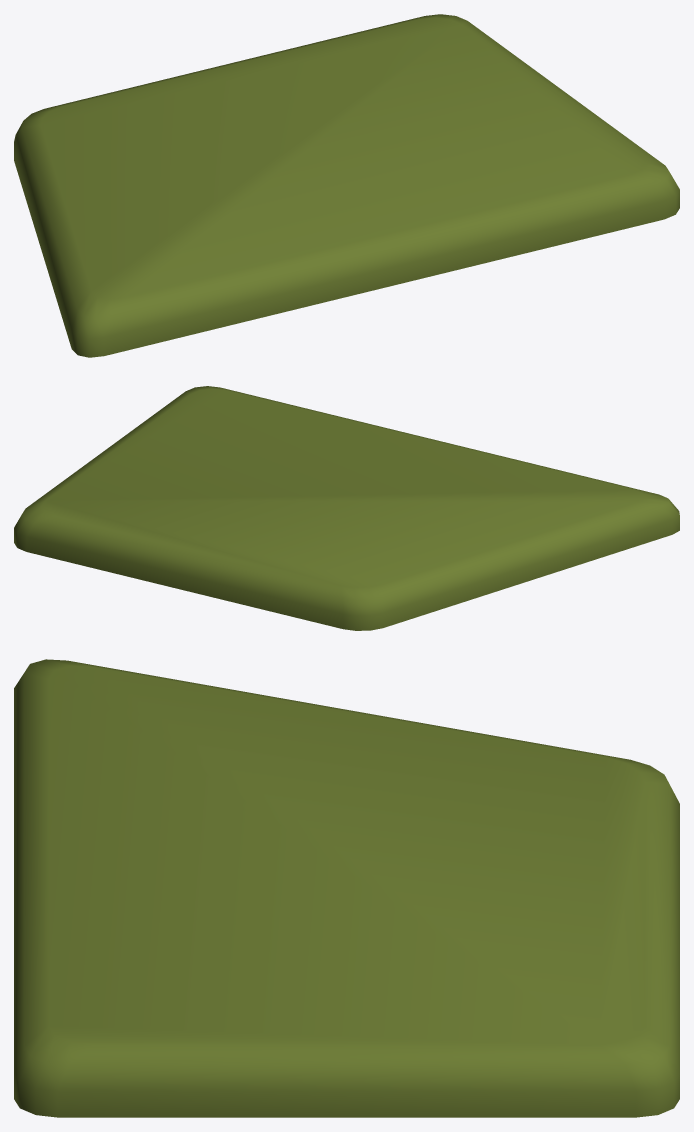
File: Floor (grass in front of the house 2).fbx
3 renders of one model, top to bottom at view 1: azimuth 30°, elevation 25°; view 2: azimuth 150°, elevation 25°; view 3: azimuth 270°, elevation 25°, orthographic. The views are drawn at different scales.
Visible parts, largest first — view 1: Floor (grass in front of the house 2); view 2: Floor (grass in front of the house 2); view 3: Floor (grass in front of the house 2).
Boxes of the visible parts, box(x1,y1,x2,y2) form: Floor (grass in front of the house 2): box(14, 14, 679, 357); Floor (grass in front of the house 2): box(14, 386, 679, 630); Floor (grass in front of the house 2): box(14, 659, 679, 1117).
Bounding box in the file's own units: 6142 × 399 × 4154.
